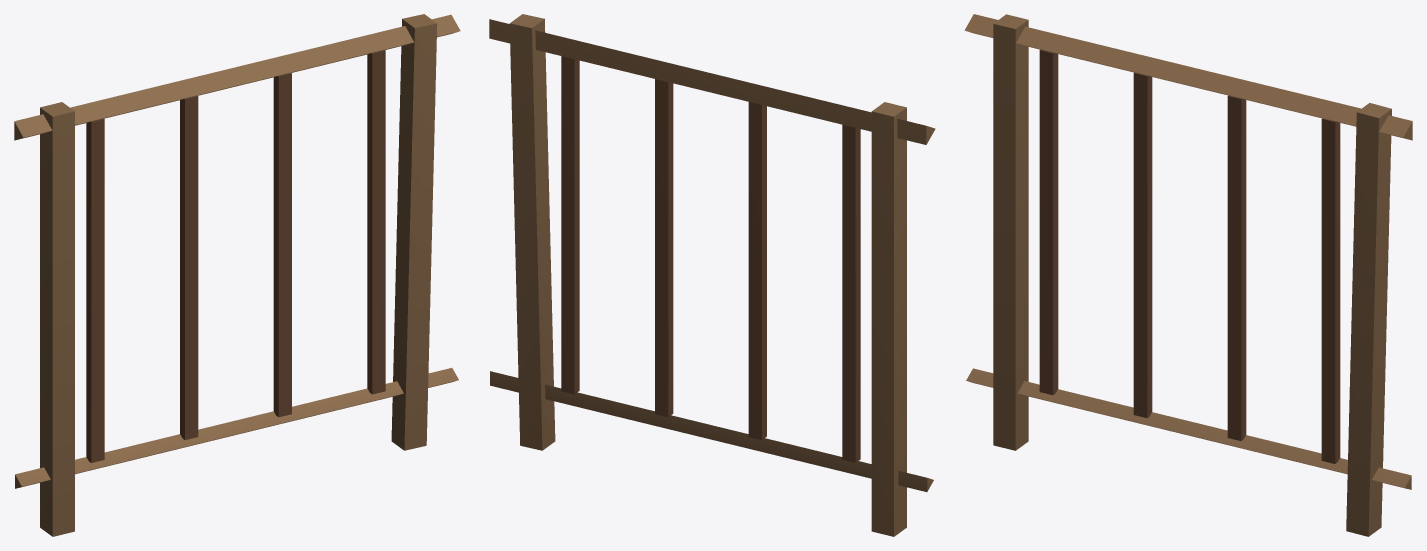
The model's file is qb_stairwell_rail_wood_lod1.glb.
3 views of the same model, side by side, from view 1: azimuth 30°, elevation 25°; view 2: azimuth 150°, elevation 25°; view 3: azimuth 330°, elevation 25° (orthographic).
Parts seen in each view (by area): view 1: qb_stairwell_rail_wood; view 2: qb_stairwell_rail_wood; view 3: qb_stairwell_rail_wood.
Part boxes in pixels (x1,y1,x2,y2): qb_stairwell_rail_wood: (14, 14, 460, 536); qb_stairwell_rail_wood: (489, 14, 935, 536); qb_stairwell_rail_wood: (964, 14, 1412, 536).
Size of the model in its own units: 0.98 by 0.9005 by 0.05.
